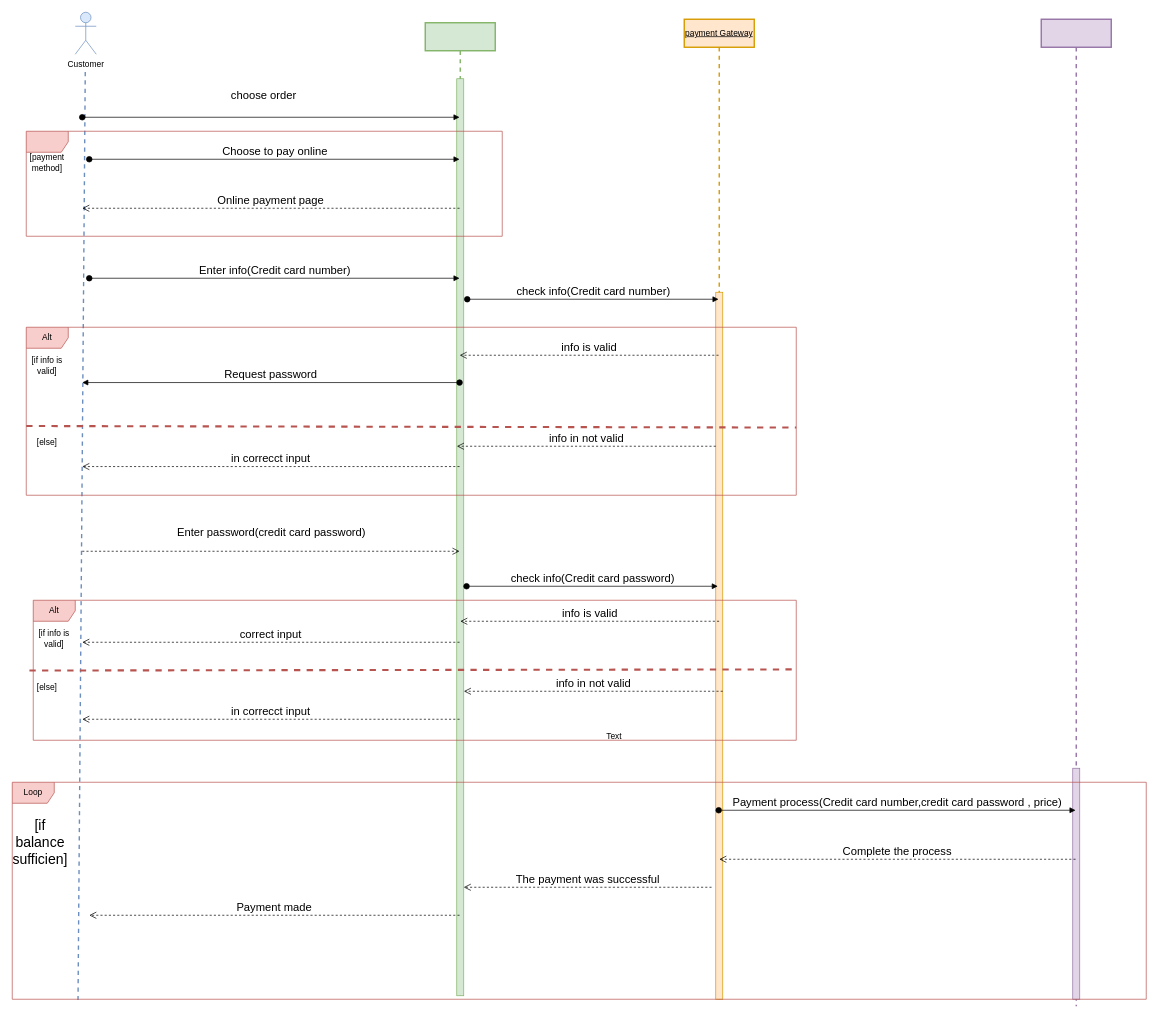
Image size: 1159x1019. Some labels were removed from this diagram. The box of each missing label's shape, as (x1, y1, x2, y2) in pixels:
Bank: (1040, 18, 1112, 1007)
opt: (26, 131, 502, 236)
Restaurant web: (424, 22, 496, 996)
